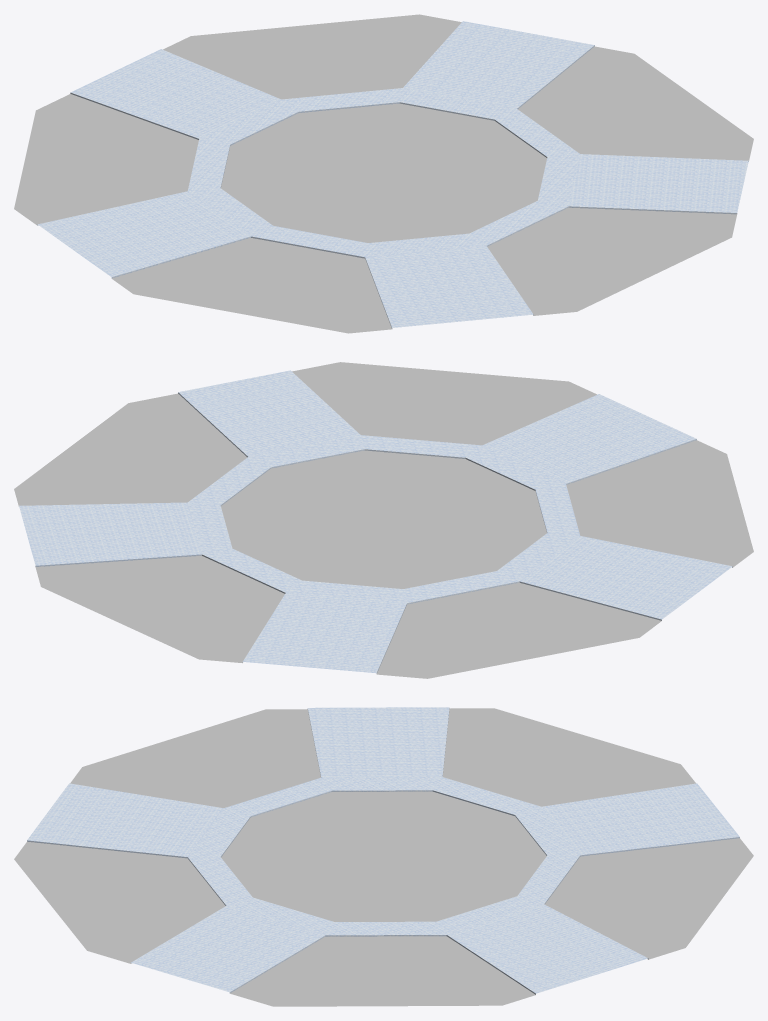
The model's file is Area1GardenV2.fbx.
The picture shows the model from 3 angles, top to bottom: view 1: azimuth 30°, elevation 25°; view 2: azimuth 150°, elevation 25°; view 3: azimuth 270°, elevation 25°; orthographic projection. The views are drawn at different scales.
Parts seen in each view (by area): view 1: AreaColumnGroundGeneric; view 2: AreaColumnGroundGeneric; view 3: AreaColumnGroundGeneric.
Part boxes in pixels (bbox=[...]): AreaColumnGroundGeneric: bbox=[14, 14, 753, 333]; AreaColumnGroundGeneric: bbox=[14, 362, 753, 678]; AreaColumnGroundGeneric: bbox=[14, 707, 753, 1006].
Size of the model in its own units: 4683 by 9.52 by 4907.
